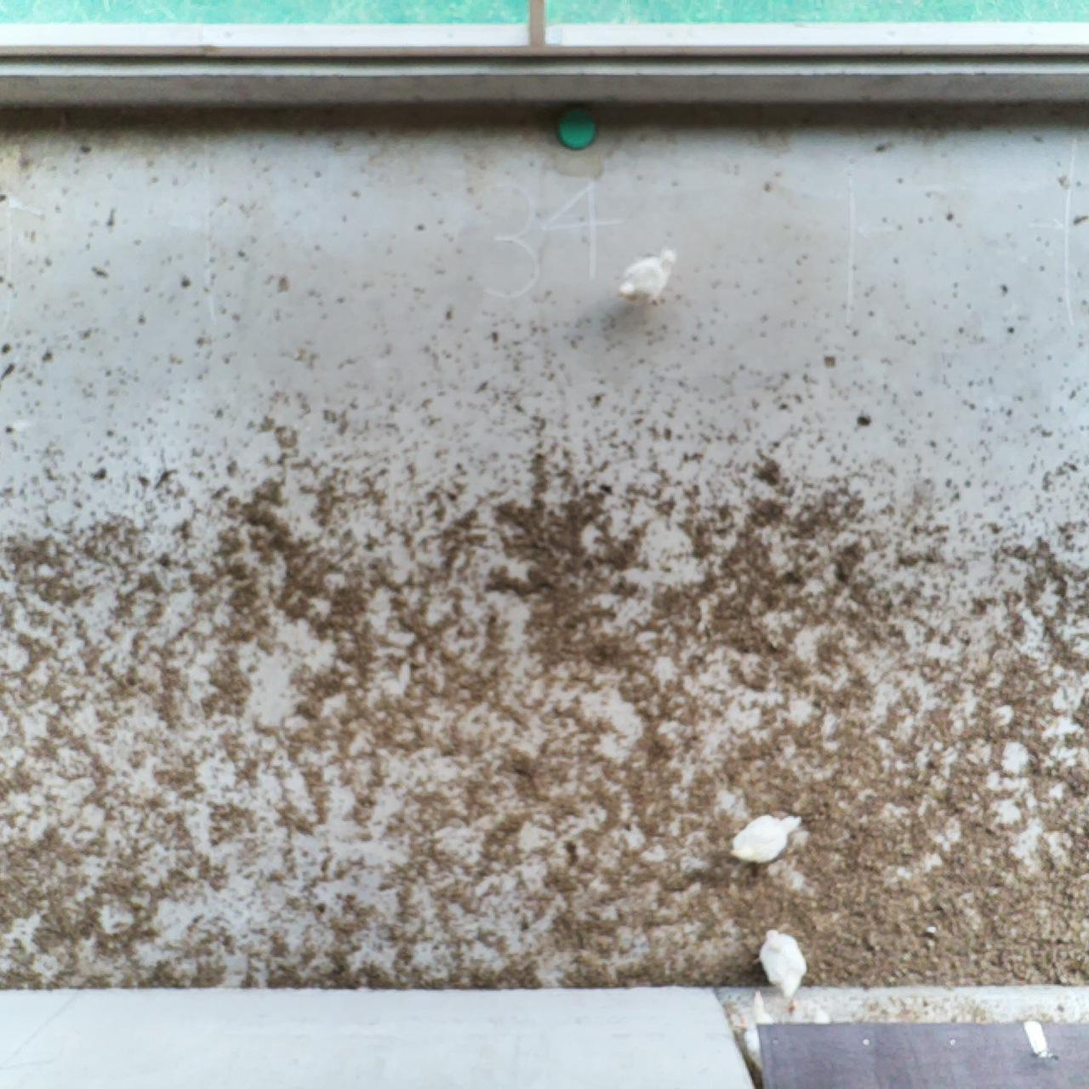chicken: (728, 815, 805, 865), (613, 247, 676, 306), (756, 932, 807, 1000)
